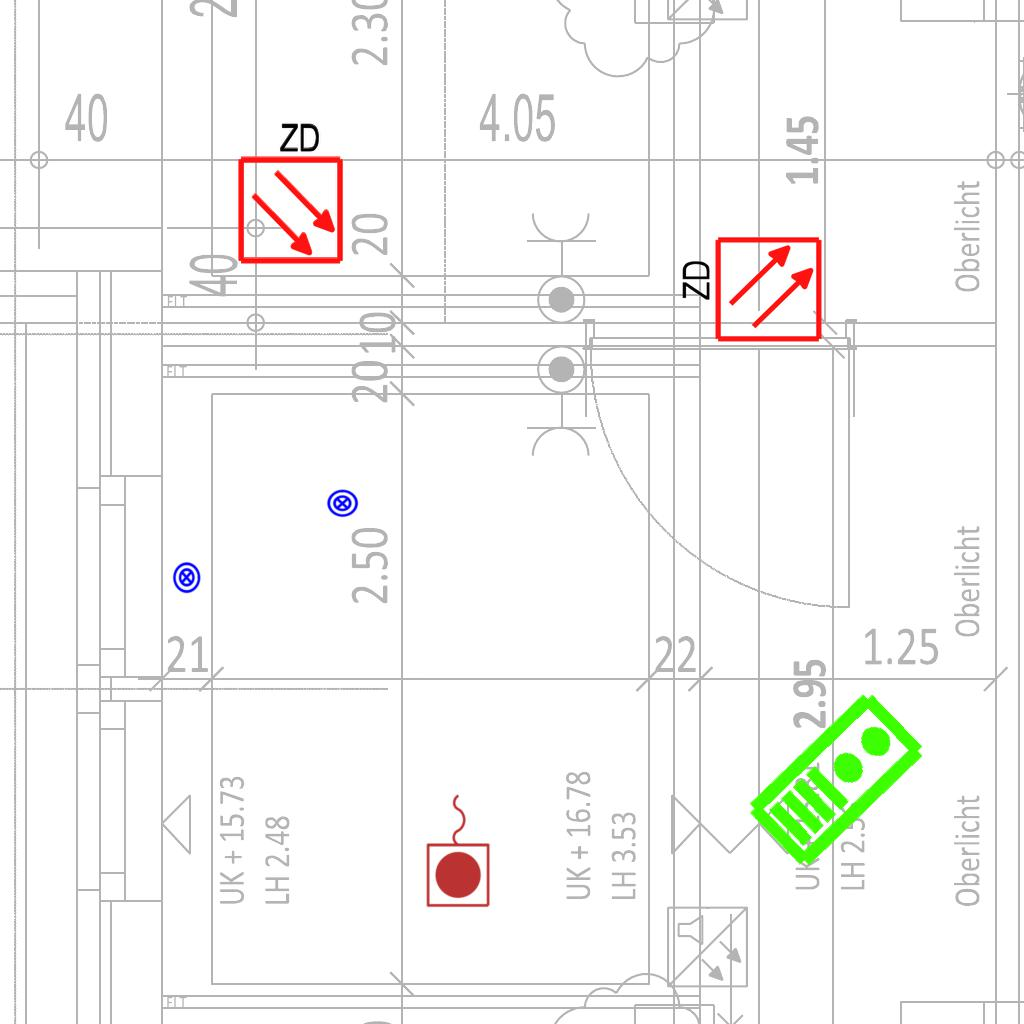Gegensprechanlage_mit_Video: (739, 682, 932, 874)
Taster_beleuchtet: (326, 487, 359, 520), (170, 561, 203, 594)
ZD_Melder_in_Zwischendecke_mit_Revisionsoeffnung_mind_40_x_40_cm: (675, 234, 824, 348), (232, 116, 346, 265), (232, 117, 346, 266)
Zugtaster: (423, 789, 495, 911)
